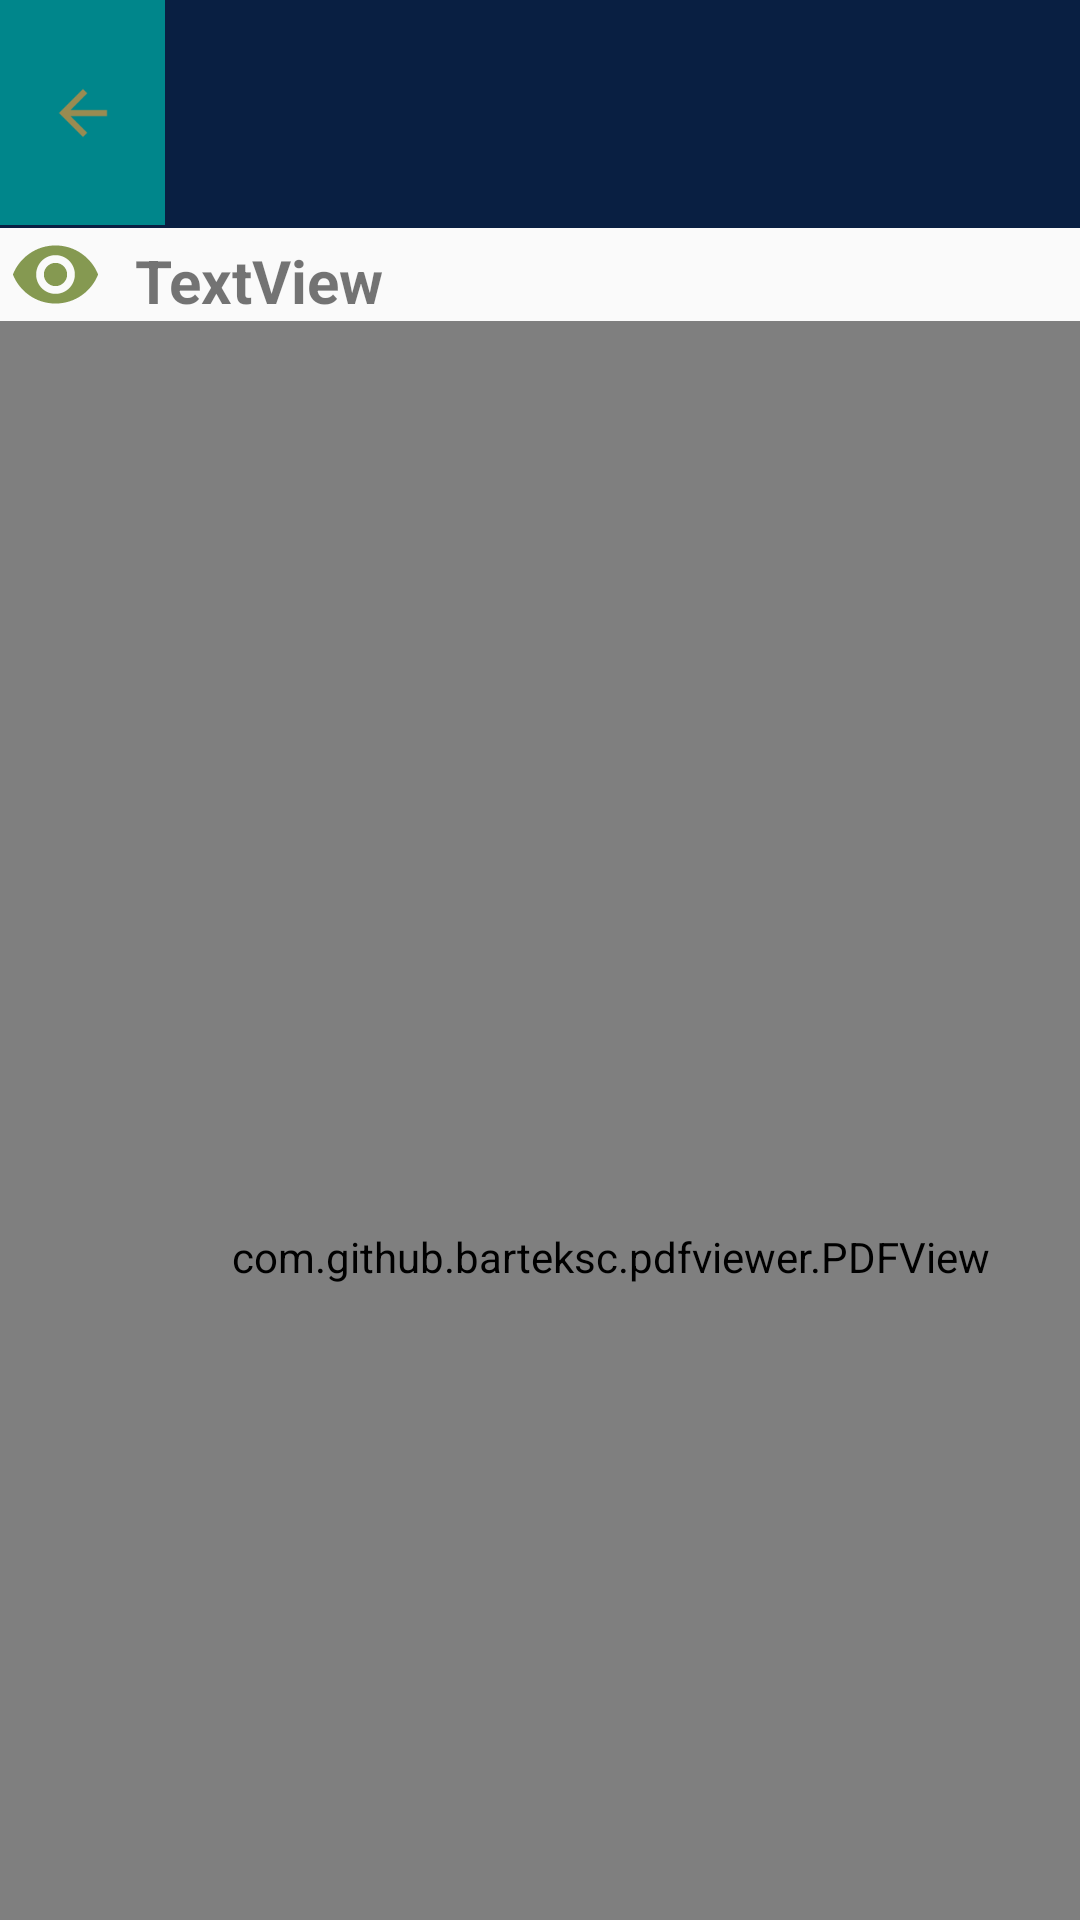

Named icons in this screenshot (1080px x 1920px) and their bounding boxes, bbox=(x1, y1, x2, y2):
arrow back: bbox=(0, 0, 165, 225)
eye: bbox=(13, 245, 98, 304)
